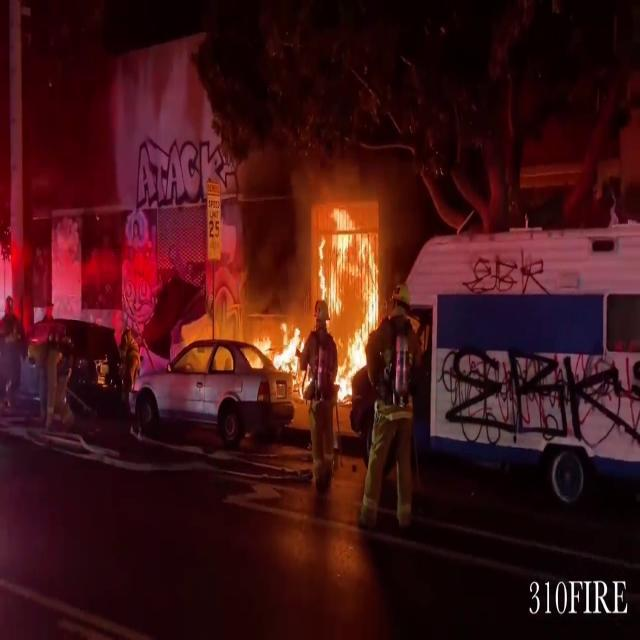Fire: (306, 188, 382, 403), (260, 316, 305, 384)
